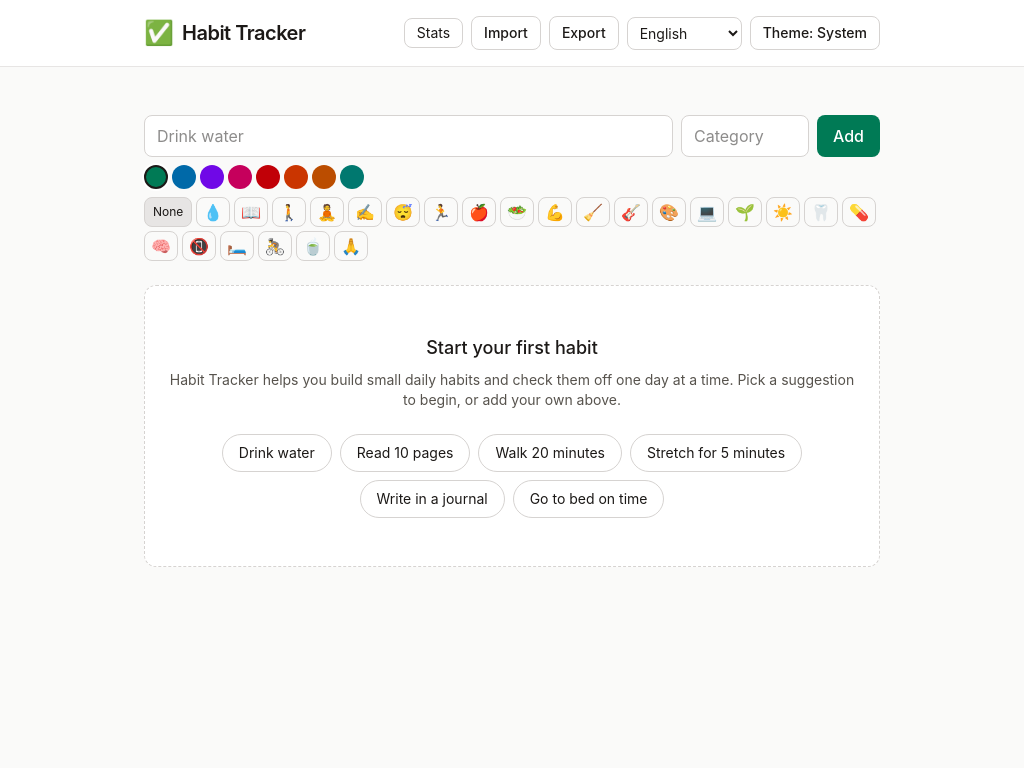
Test: starter habits › adds a habit when a suggestion is clicked and hides the empty state
Click the button "Walk 20 minutes". click: [550, 453]
box: [478, 434, 622, 472]
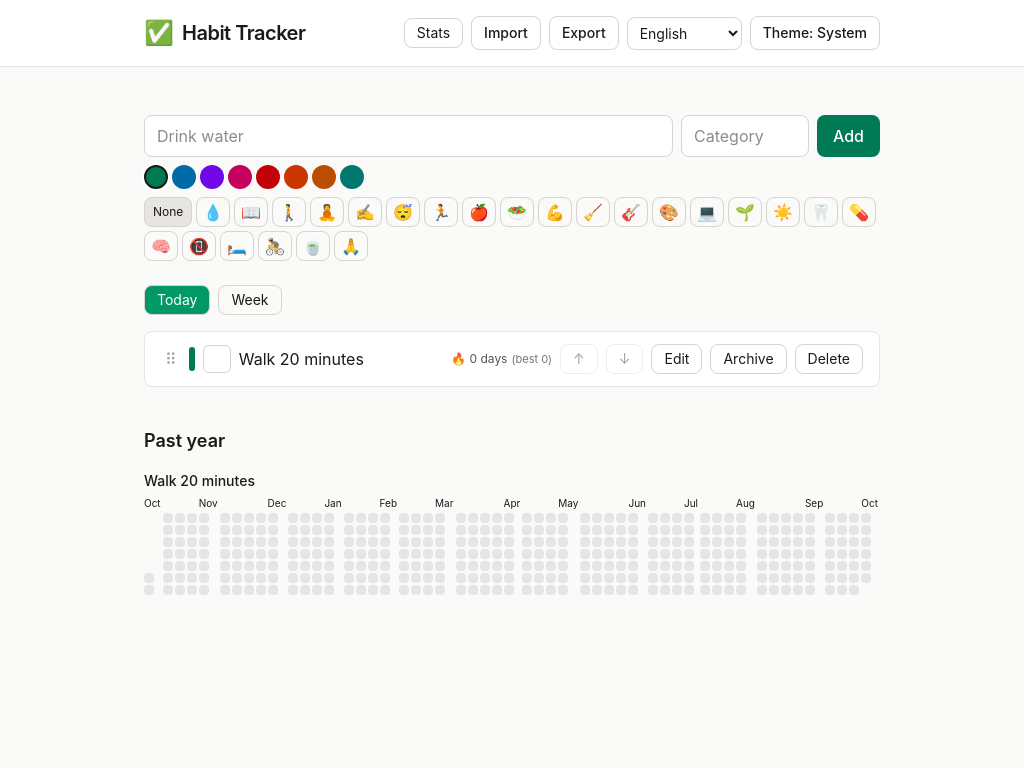
Now the list named "Habits" shows "Walk 20 minutes", box [239, 349, 364, 369]
